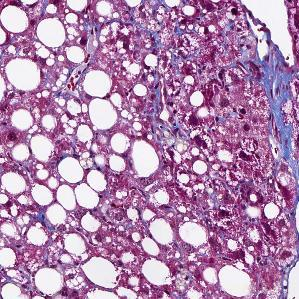fibrosis: (258, 62, 299, 170)
